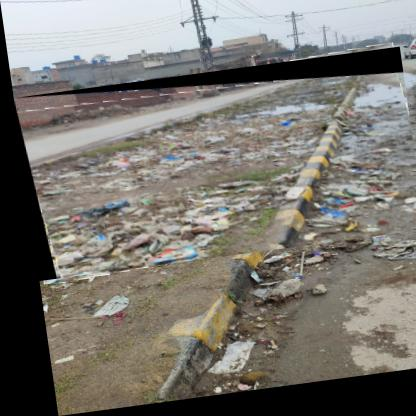Garbage: (11, 58, 416, 284)
